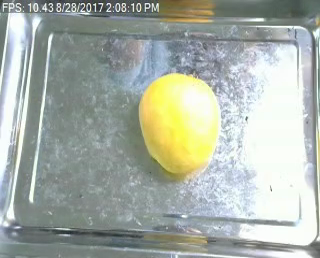Mango: (140, 72, 224, 175)
